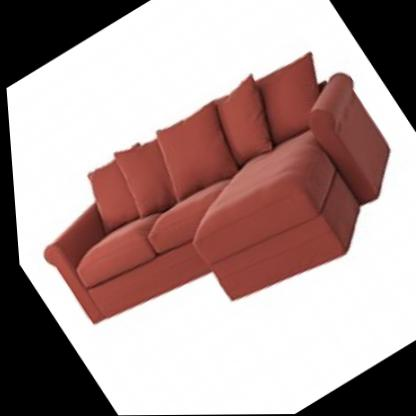Sofa: (0, 0, 416, 395)
